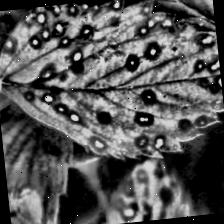Leaf Spot: (0, 0, 224, 175), (32, 0, 216, 56), (93, 151, 205, 224)
